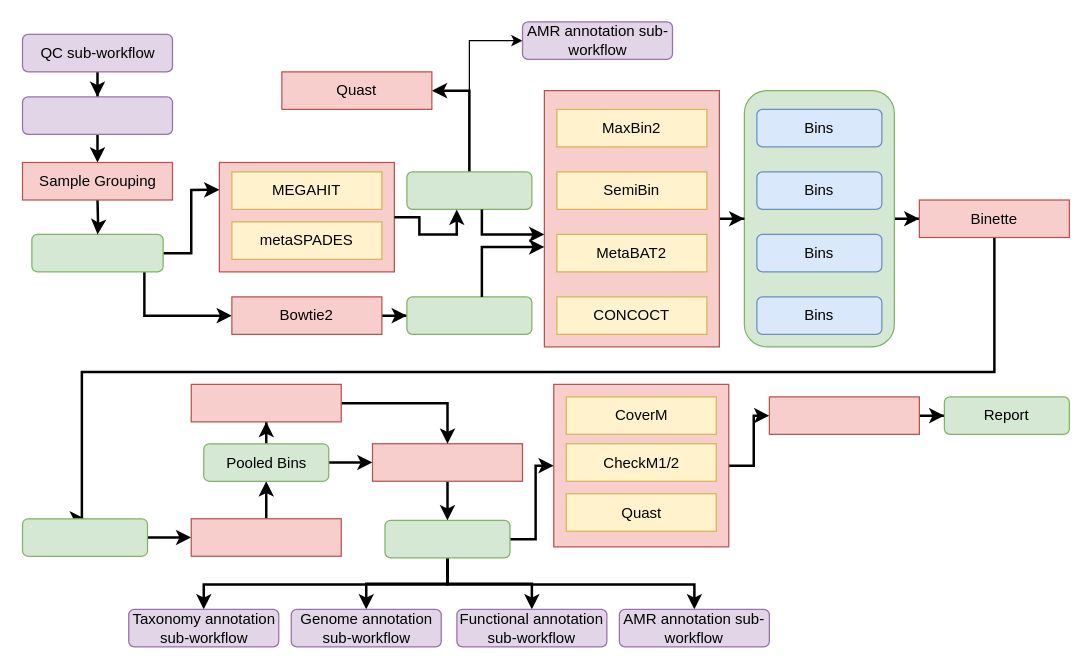
Some shapes in this 1091 by 669 pixel diagram are drawn without their labels. The shapes that lost their labels are listed below. From the top down, each one's centre as x and y in pixels, then its label:
At point (96, 115): "Host-removal sub-workflow".
At point (469, 190): "Contigs".
At point (97, 252): "Samples".
At point (469, 315): "Alignment".
At point (265, 402): "CheckM2".
At point (843, 415): "MultiQC".
At point (446, 461): "dRep".
At point (84, 537): "Refined Bins".
At point (265, 537): "Pool Bins from all samples".
At point (447, 538): "Best Quality Bins".
